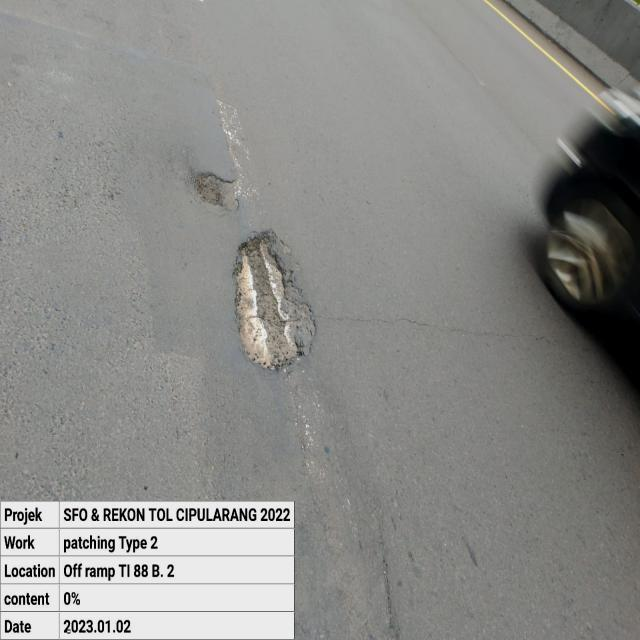Buraco: (228, 226, 320, 375), (190, 170, 244, 213)
